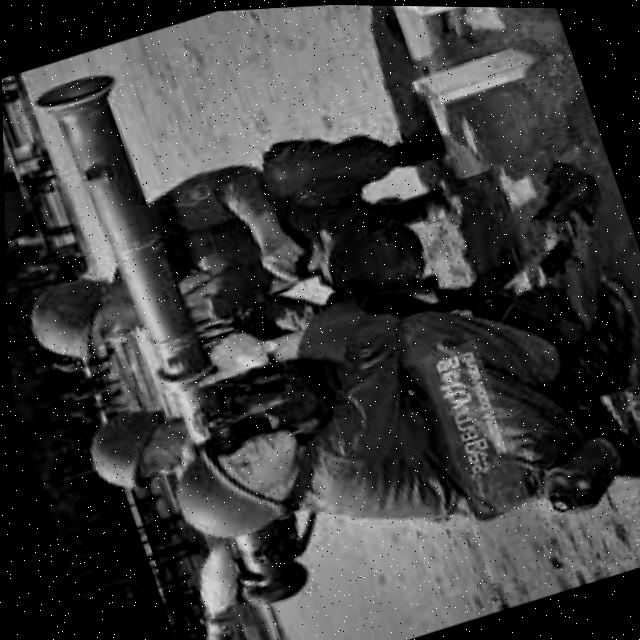rocket: (22, 48, 315, 631)
